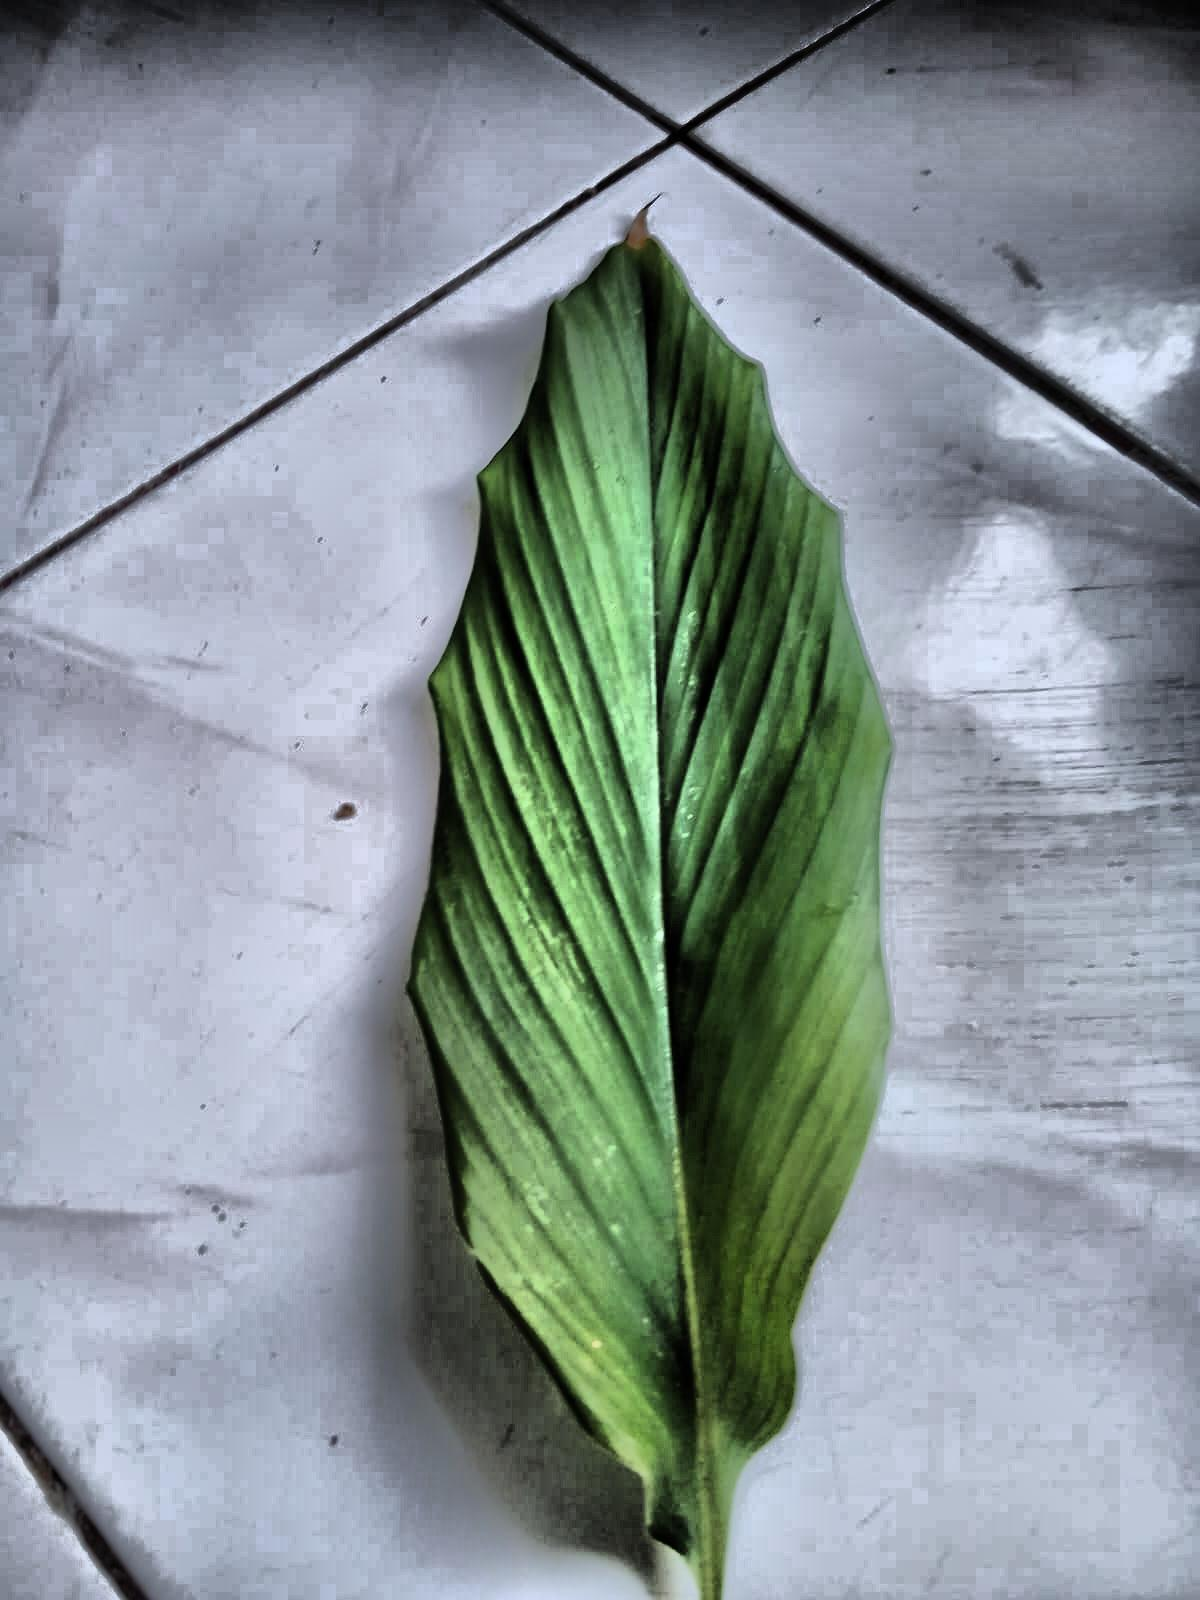daun kunyit: (410, 218, 891, 1599)
